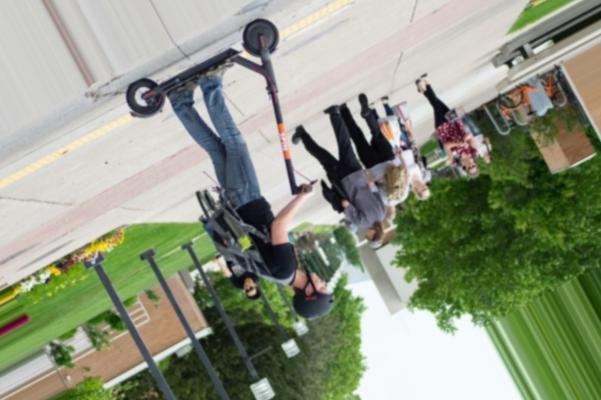scooter: (126, 17, 318, 196)
with helmet: (292, 267, 335, 320)
